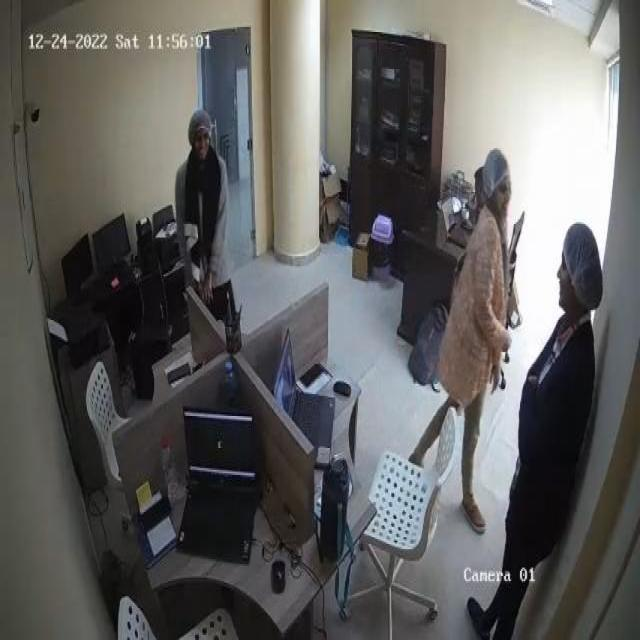hairnet: (563, 218, 605, 313), (486, 144, 510, 194), (187, 107, 212, 139)
